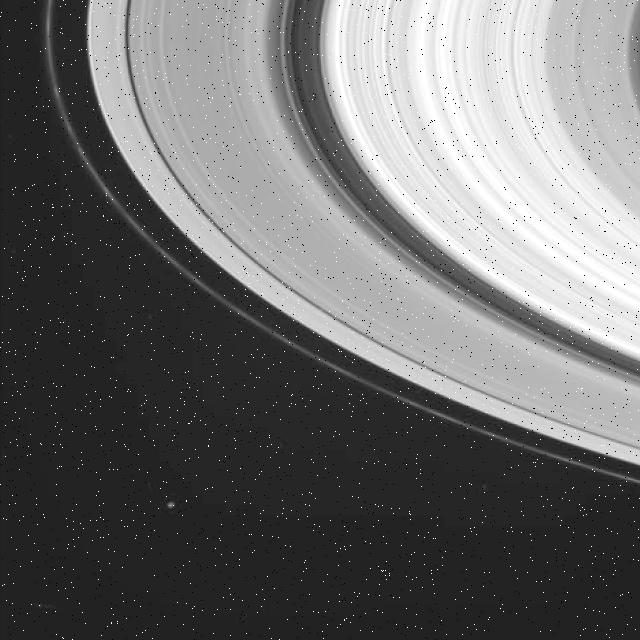Saturn: (42, 0, 640, 498)
